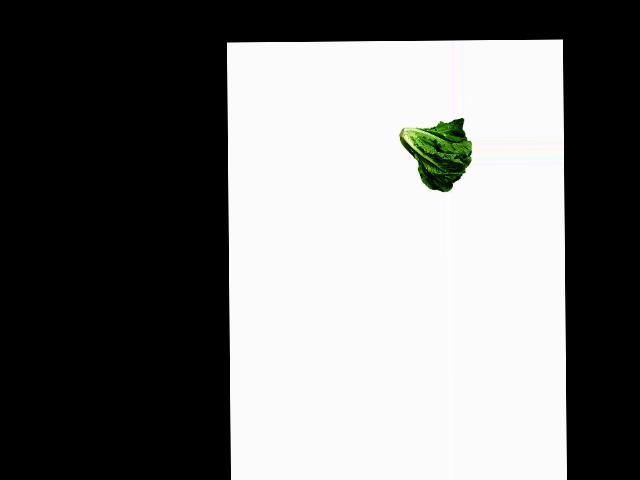lettuce: (396, 119, 472, 193)
